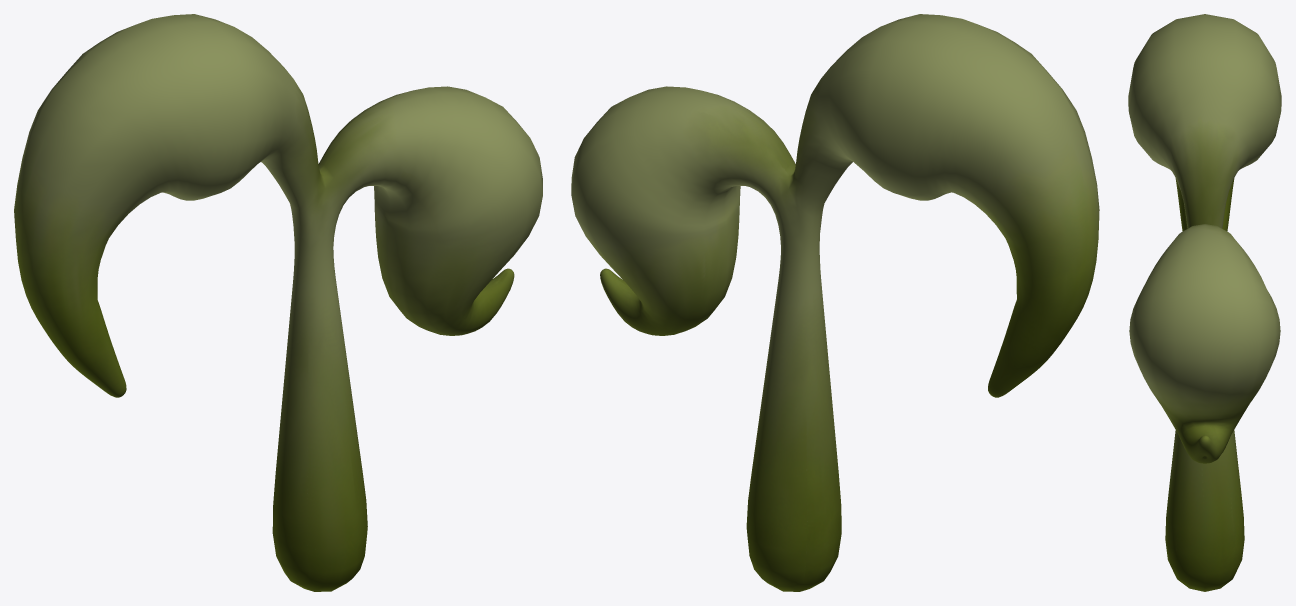
File: beanSprout.fbx
The picture shows the model from 3 angles, left to right: view 1: azimuth 30°, elevation 25°; view 2: azimuth 150°, elevation 25°; view 3: azimuth 270°, elevation 25°; orthographic projection. The views are drawn at different scales.
Parts seen in each view (by area): view 1: beanSprout; view 2: beanSprout; view 3: beanSprout.
Boxes of the visible parts, <box> form: beanSprout: <box>14,14,542,591</box>; beanSprout: <box>571,14,1099,591</box>; beanSprout: <box>1128,14,1281,591</box>.
Bounding box in the file's own units: 146 × 164 × 45.67.
